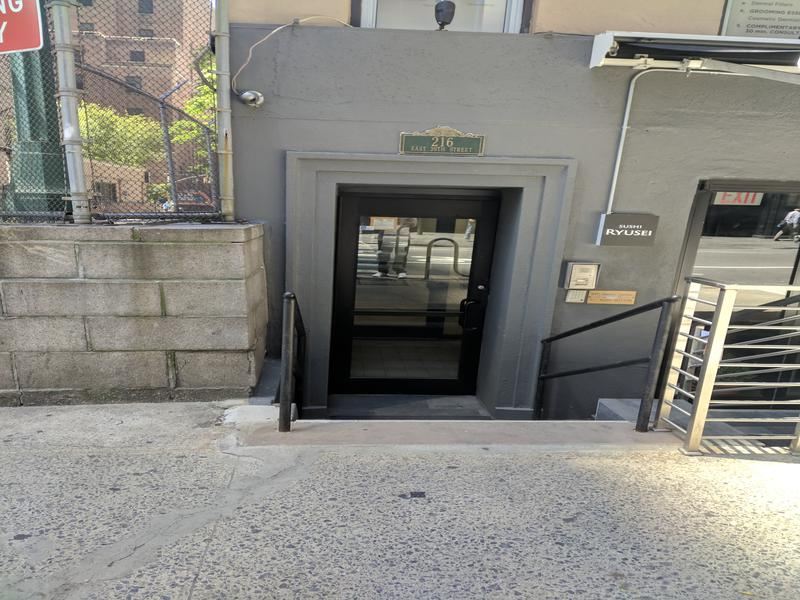door: (327, 175, 501, 404)
